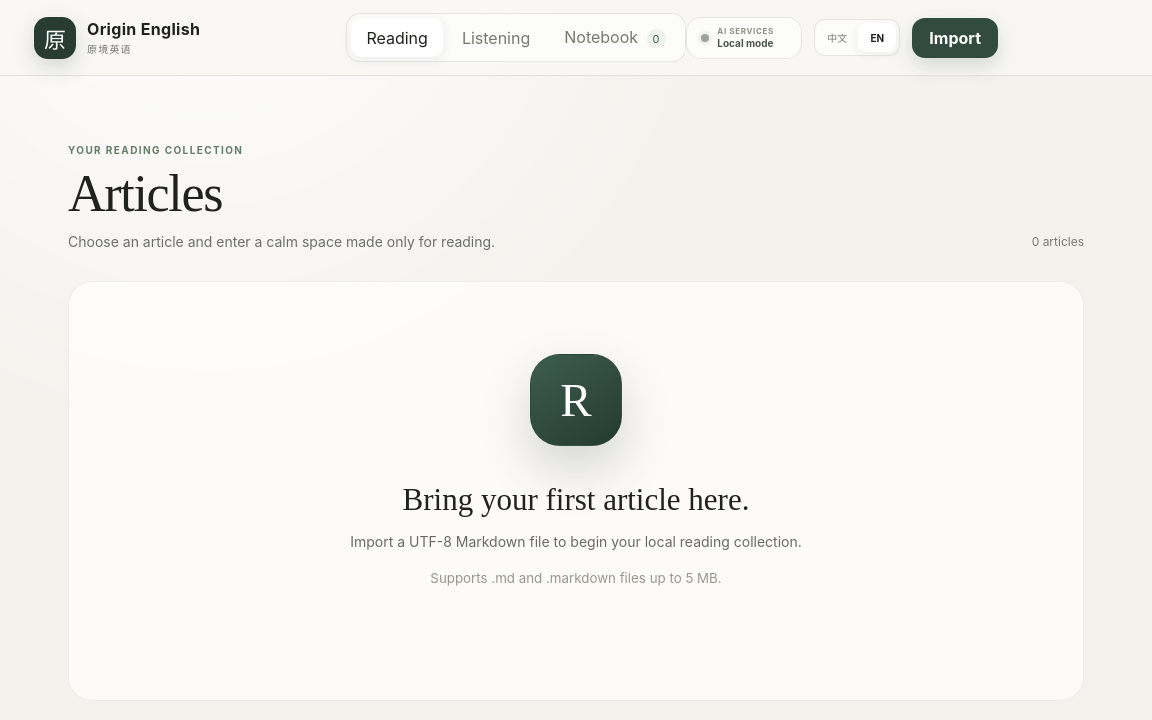
video component preparation in the application › keeps the dialog usable after a preparation failure so the learner can retry
Click the button "Listening" at {"x": 496, "y": 38}, box [447,18,545,57]
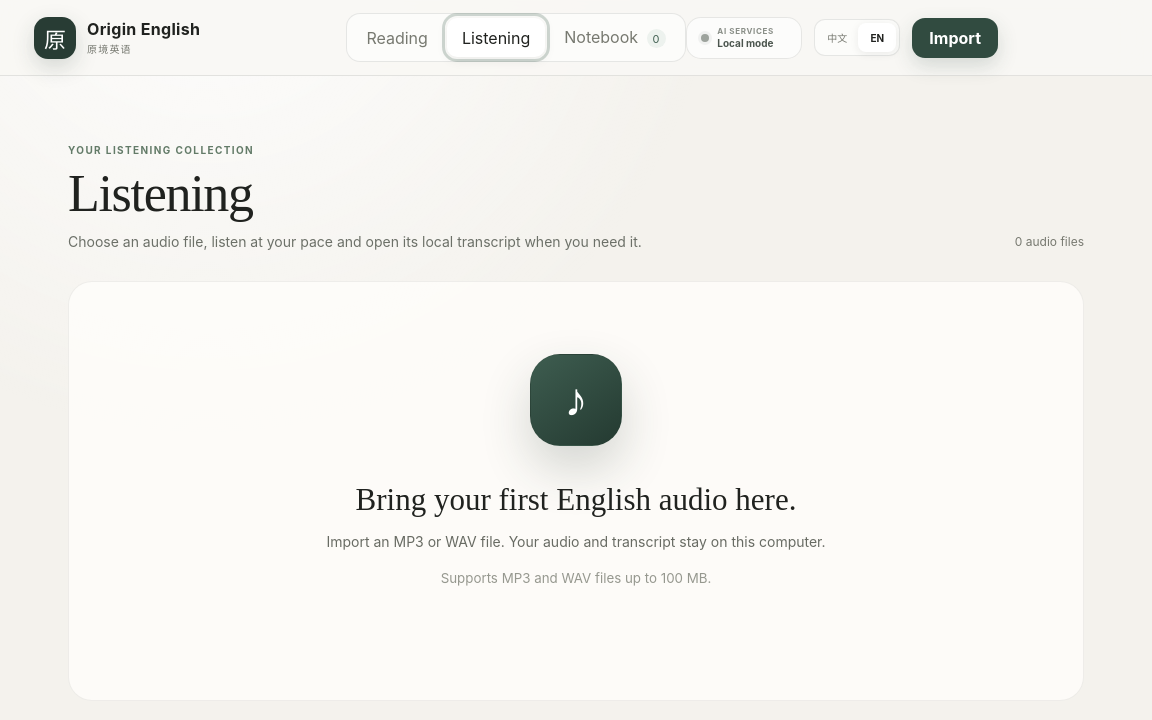
Click the button "Import" at {"x": 955, "y": 38}, box [912,18,998,58]
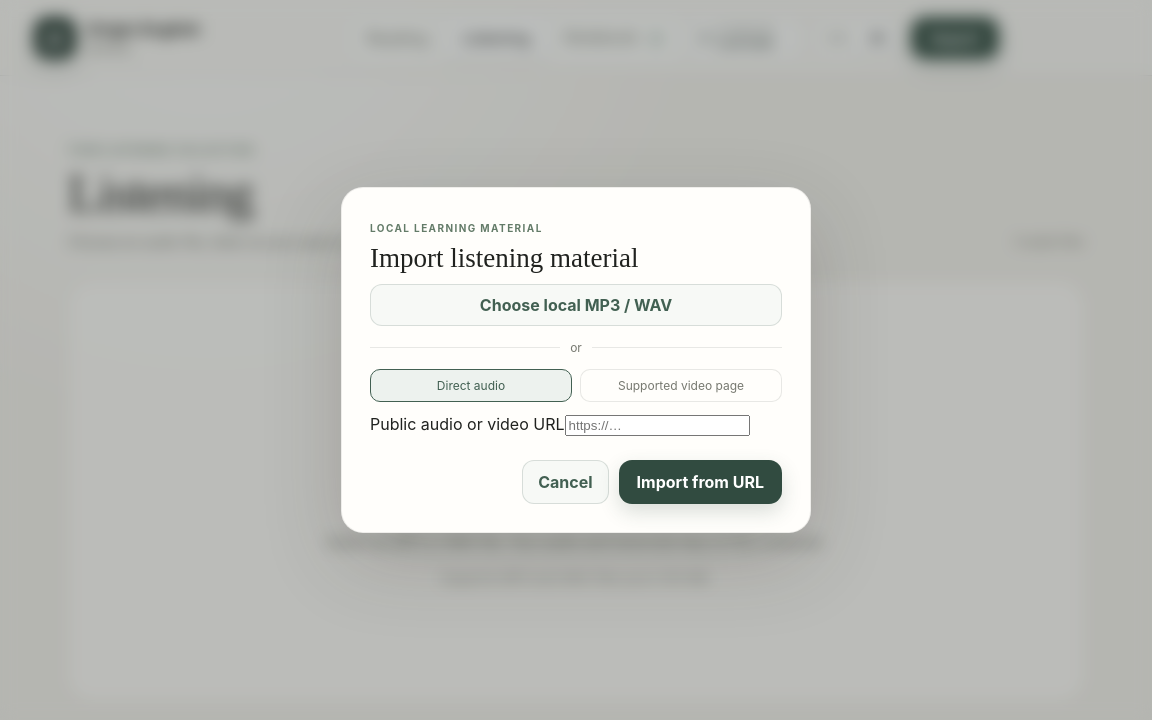
Click the button "Supported video page" at {"x": 681, "y": 386}, box [580,369,782,402]
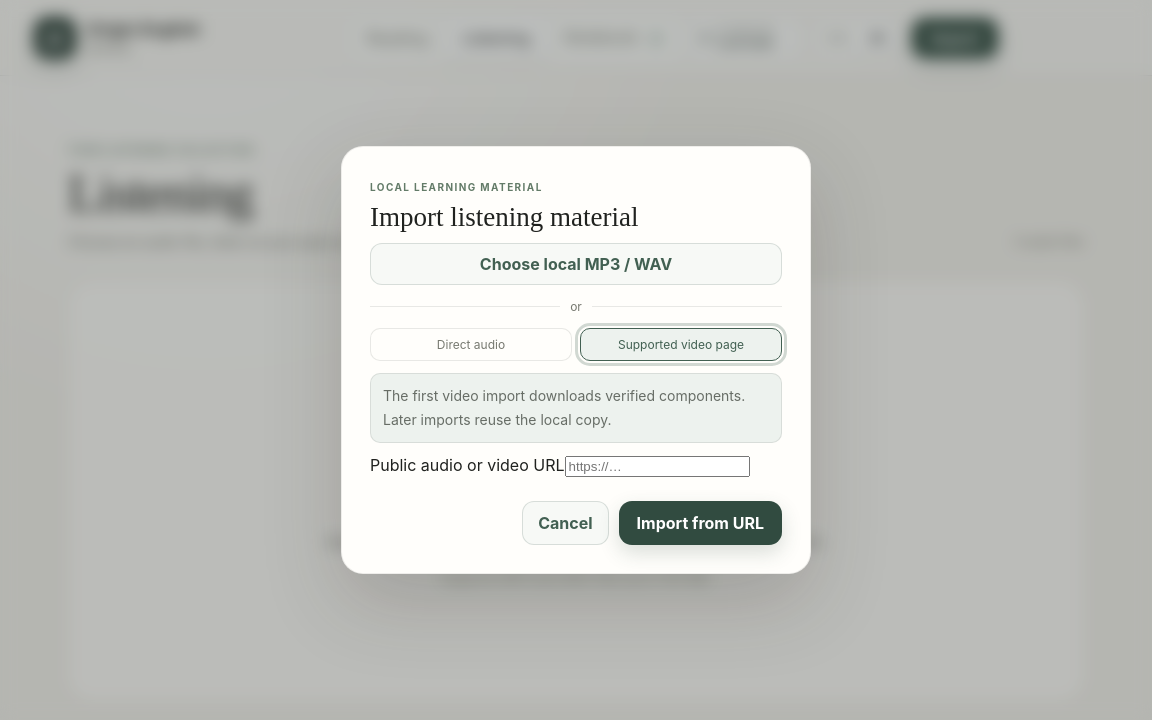
Type "https://commons.wikimedia.org/wiki/File:Retry.webm" into the field labelled "Public audio or video URL" at {"x": 657, "y": 466}, box [564,456,750,477]
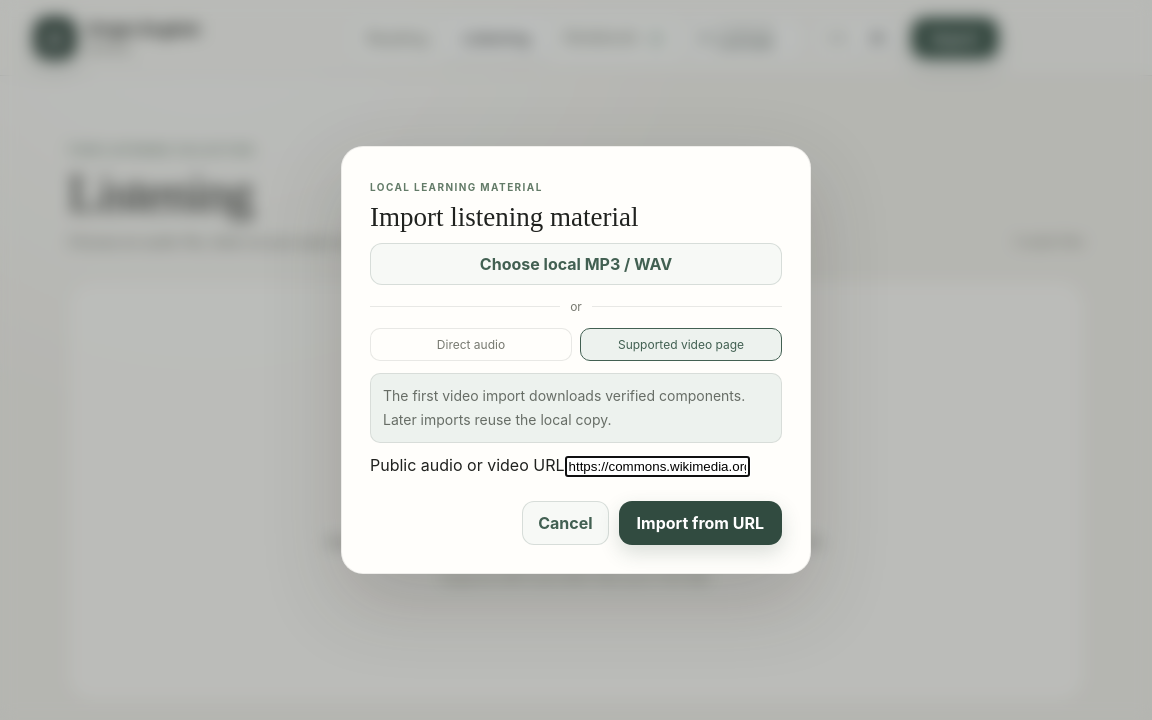
Click the button "Import from URL" at {"x": 700, "y": 523}, box [619,501,782,545]
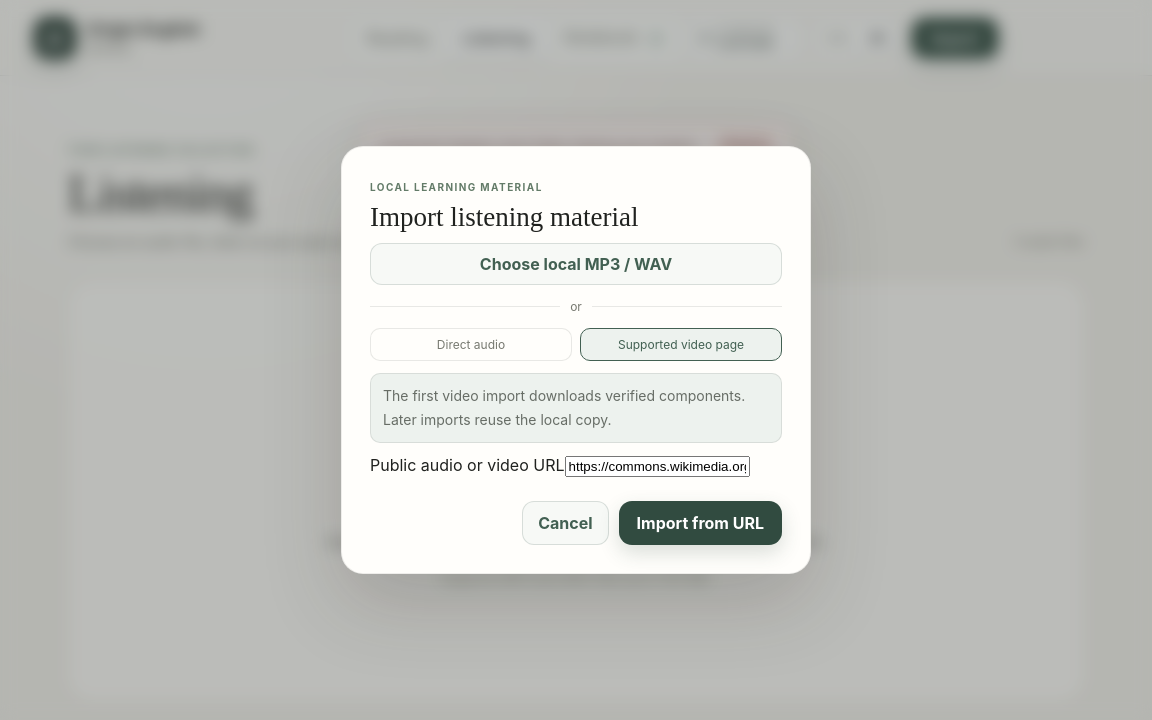
expect the text "Component integrity check failed. Nothing was installed." is shown: met, box [378,139,698,154]
expect the dialog is shown: met, box [341,146,811,574]
Click the button "Import from URL" at {"x": 700, "y": 523}, box [619,501,782,545]
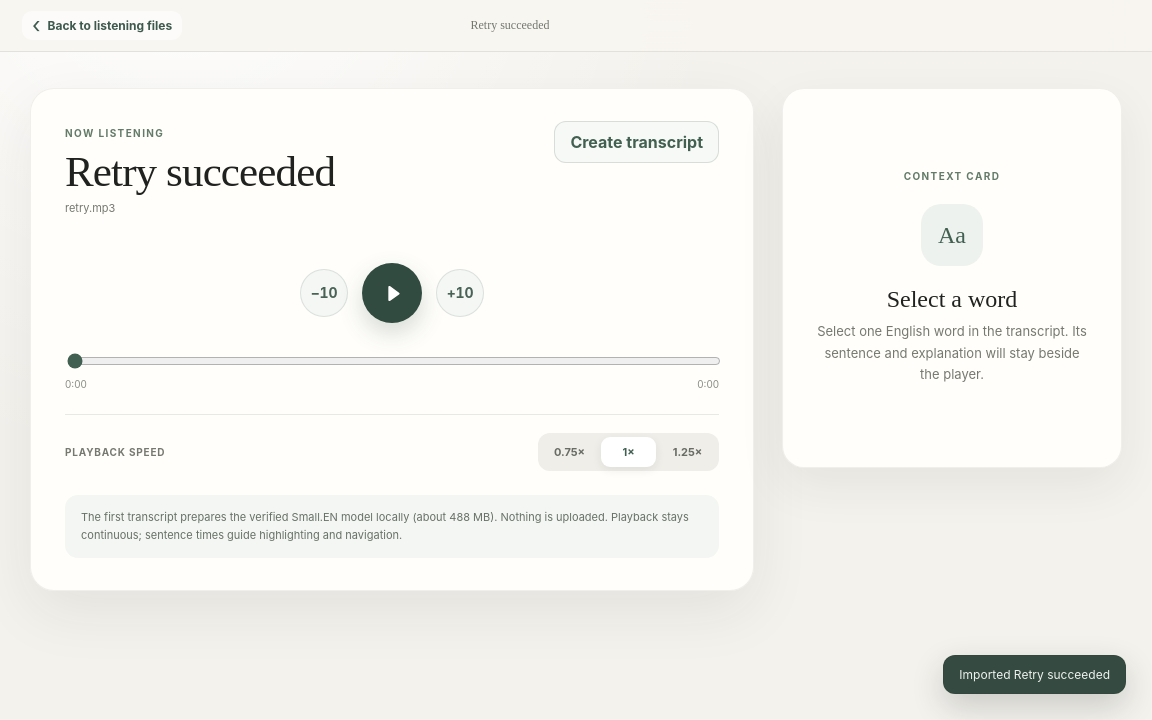
expect the dialog is gone: met
expect the heading "Retry succeeded" is shown: met, box [65,147,335,196]
